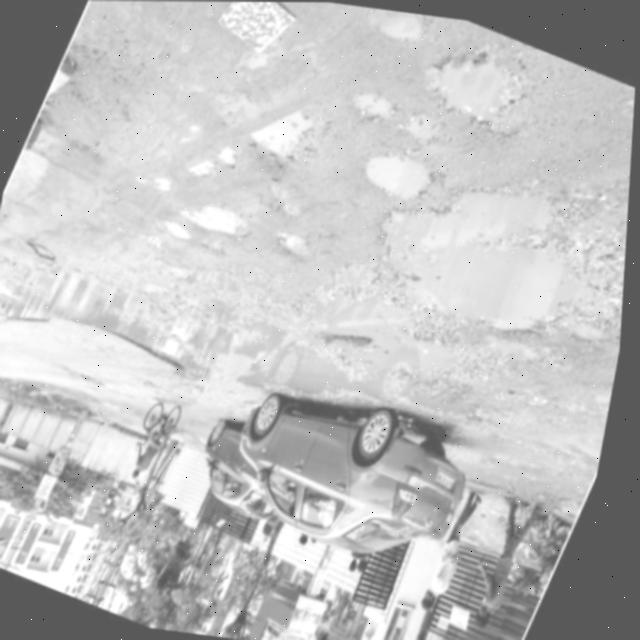Pothole: (0, 195, 401, 448), (351, 148, 633, 374), (250, 237, 523, 454), (394, 388, 613, 537), (214, 49, 351, 191), (428, 36, 537, 151), (230, 172, 340, 276), (349, 127, 463, 227), (168, 157, 266, 240), (592, 76, 637, 146)
